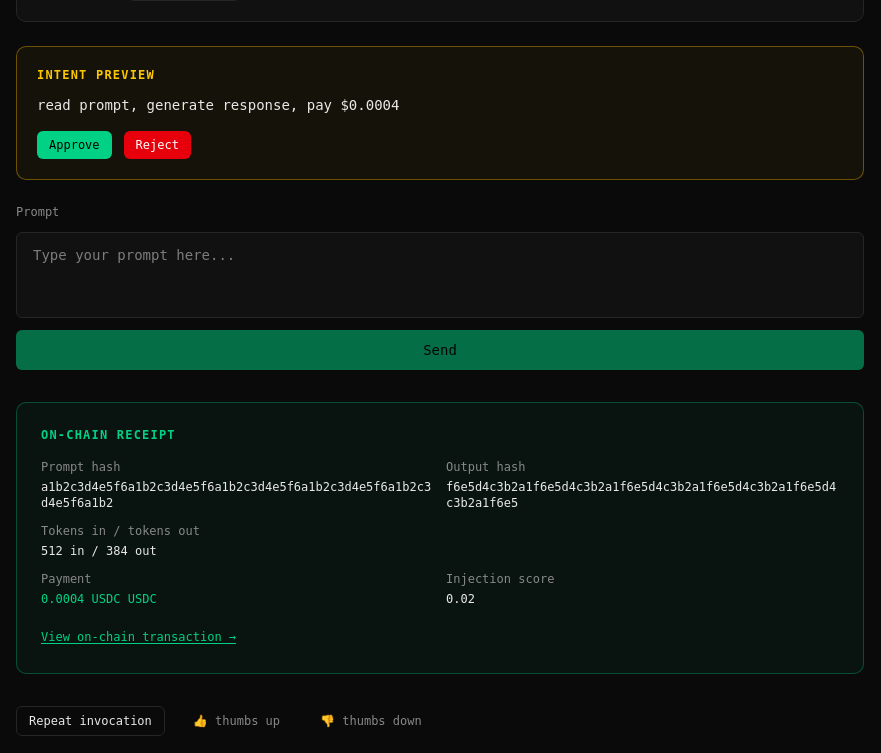
SessionPage — invocation rating (SPEC §3.2 story 22) › shows a 'Thanks for your rating' confirmation after thumbs up is clicked
(page scrolled)
Step 1. Click the button "👍 thumbs up" → (236, 721), box top-left (181, 707), bottom-right (292, 735)
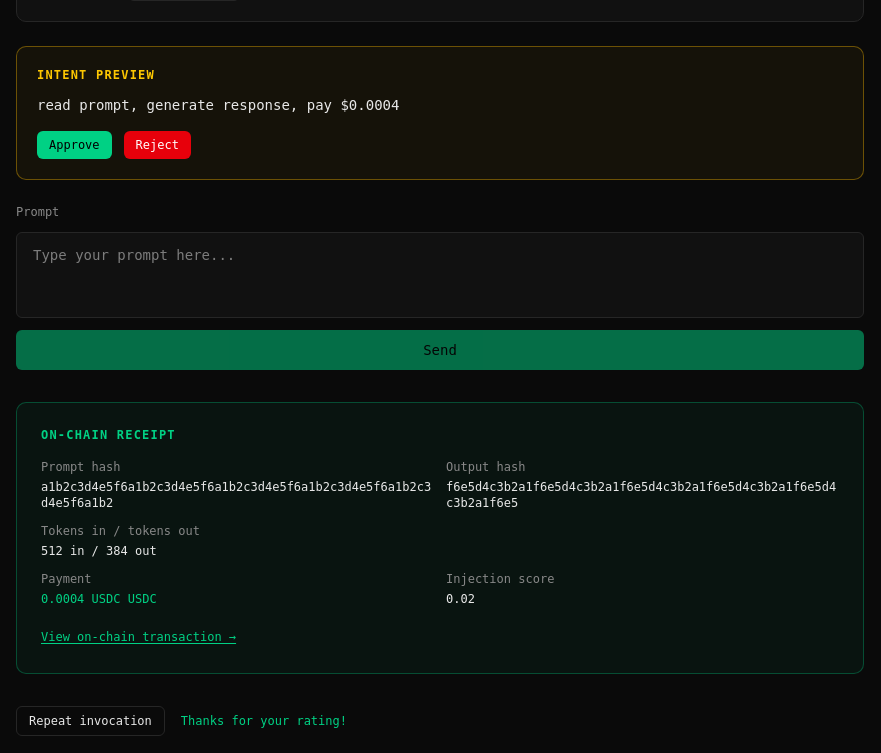
Result: the text "Thanks for your rating!" is shown at top-left (181, 713), bottom-right (347, 729)
